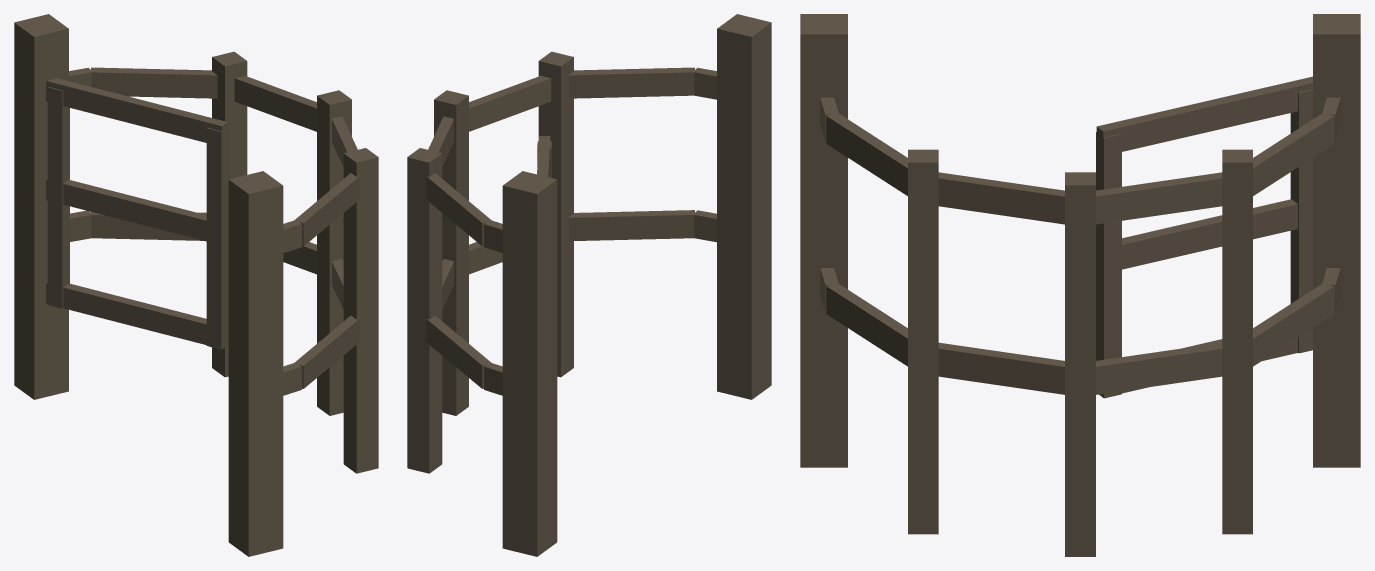
File: SM_Prop_kissing_gate_0.glb
3 renders of one model, left to right at view 1: azimuth 30°, elevation 25°; view 2: azimuth 150°, elevation 25°; view 3: azimuth 270°, elevation 25°, orthographic. The views are drawn at different scales.
Visible parts, largest first — view 1: SM_Prop_kissing_gate_0; view 2: SM_Prop_kissing_gate_0; view 3: SM_Prop_kissing_gate_0.
Boxes of the visible parts, left/top/right/bottom form: SM_Prop_kissing_gate_0: left=14, top=14, right=378, bottom=556; SM_Prop_kissing_gate_0: left=407, top=14, right=771, bottom=556; SM_Prop_kissing_gate_0: left=800, top=14, right=1360, bottom=556.
Size of the model in its own units: 0.865 by 1.4 by 1.64.
